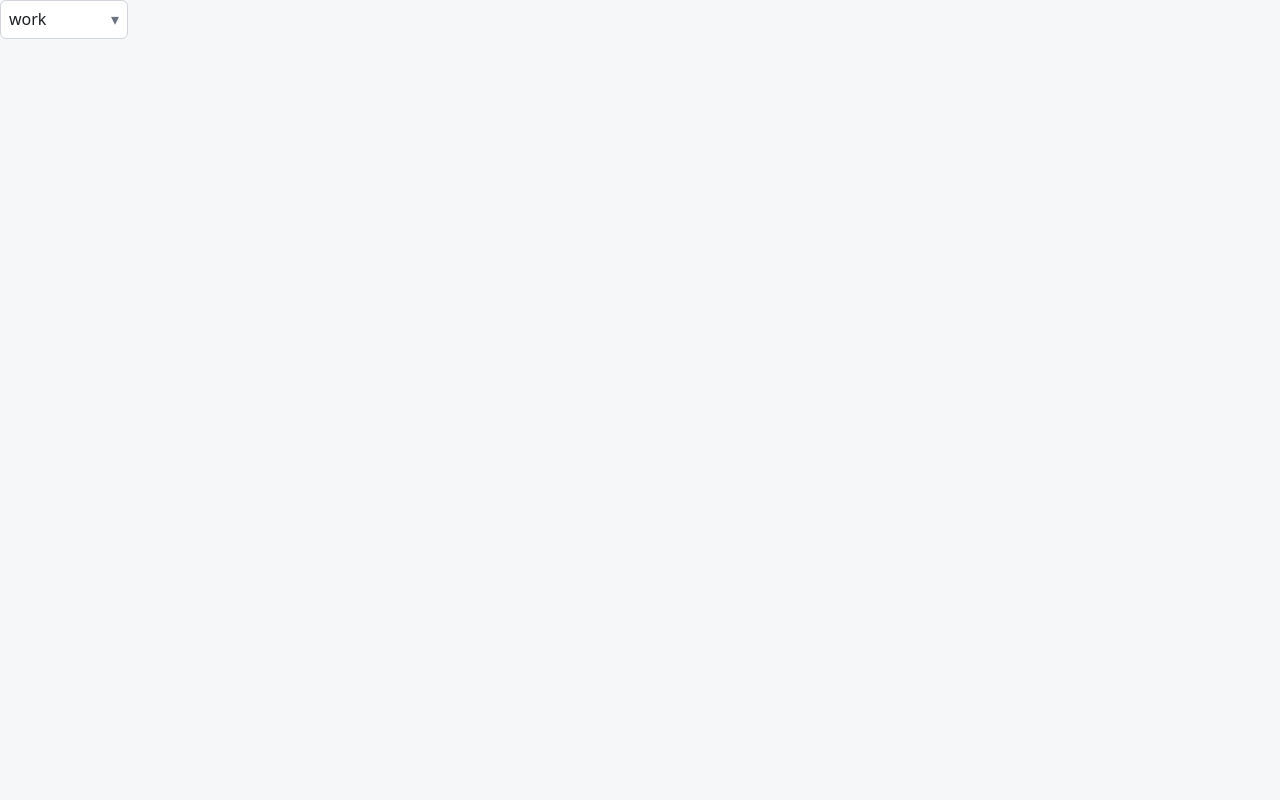
Scenario: SelectField › invalidates an old scoped session without closing or focusing a newer picker
Earlier steps of the test are not shown.
Click the button with aria-label "List": (64, 19) [0,0,128,39]
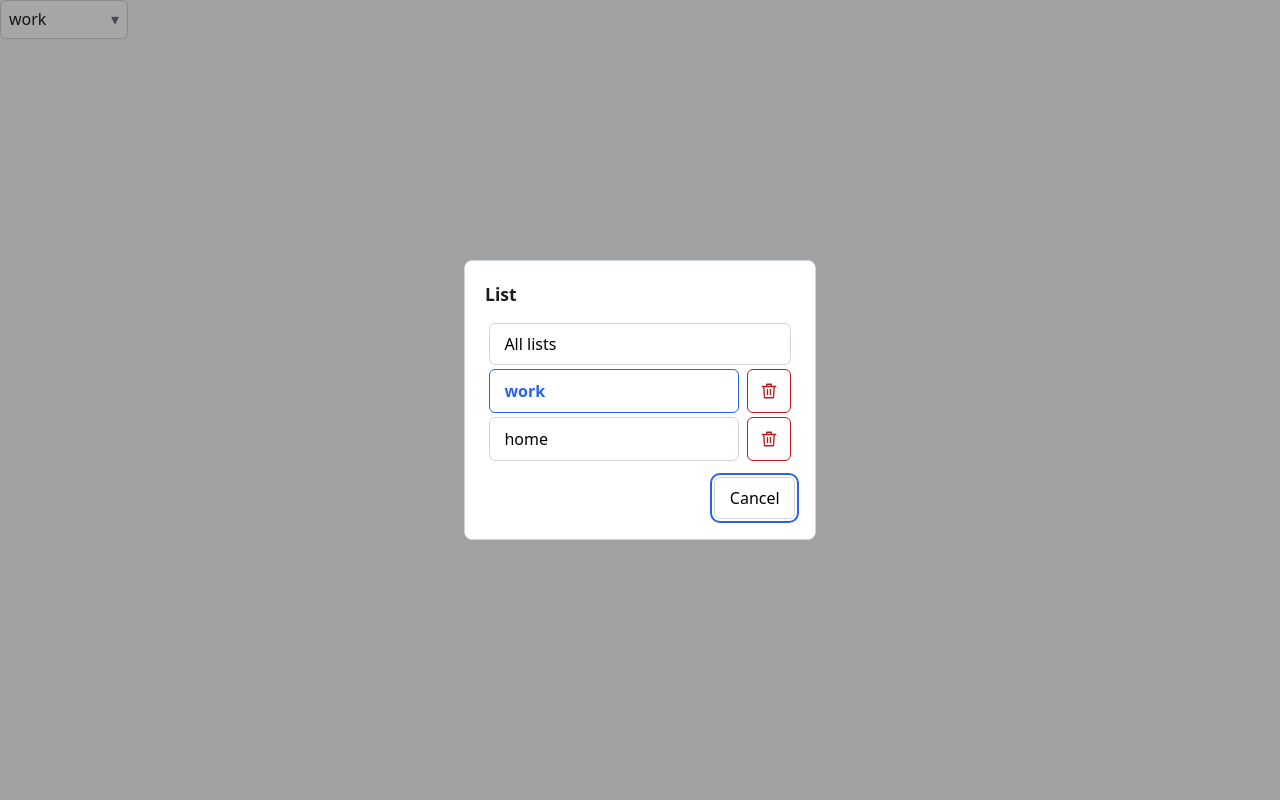
expect the dialog with class "select-modal" is shown: met, box [464,260,816,540]
